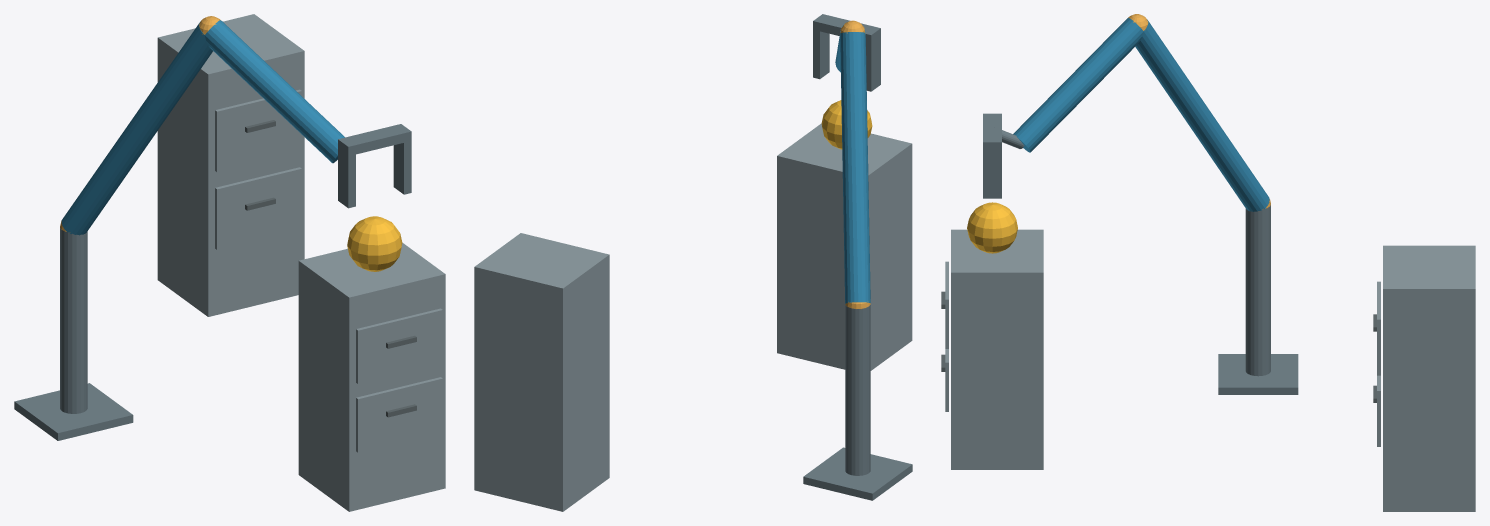
The picture shows the model from 3 angles, left to right: view 1: azimuth 30°, elevation 25°; view 2: azimuth 150°, elevation 25°; view 3: azimuth 270°, elevation 25°; orthographic projection. The views are drawn at different scales.
Visible parts, largest first — view 1: cabinet_1 body, cabinet_2 body, moving link 1, cabinet_2 drawer front, fixed post, moving link 2, cabinet_1 drawer front, cabinet_1 drawer front.001, cabinet_2 drawer front.001, pedestal, ball ball_1, gripper bridge (+2 smaller); view 2: cabinet_2 body, cabinet_1 body, moving link 1, fixed post, pedestal, ball ball_1, gripper bridge, gripper finger 1, gripper finger -1; view 3: cabinet_2 body, cabinet_1 body, moving link 1, fixed post, moving link 2, pedestal, ball ball_1, gripper finger 1, gripper bridge.
Part boxes in pixels (bbox=[...]): cabinet_1 body: bbox=[298, 242, 445, 511]; cabinet_2 body: bbox=[157, 14, 304, 316]; moving link 1: bbox=[61, 21, 212, 235]; cabinet_2 drawer front: bbox=[215, 167, 301, 249]; fixed post: bbox=[60, 226, 87, 413]; moving link 2: bbox=[204, 20, 344, 163]; cabinet_1 drawer front: bbox=[356, 377, 442, 452]; cabinet_1 drawer front.001: bbox=[356, 308, 442, 383]; cabinet_2 drawer front.001: bbox=[215, 89, 301, 172]; pedestal: bbox=[14, 383, 133, 440]; ball ball_1: bbox=[347, 216, 402, 271]; gripper bridge: bbox=[338, 124, 411, 156]; cabinet_2 body: bbox=[474, 233, 609, 511]; cabinet_1 body: bbox=[777, 123, 912, 370]; moving link 1: bbox=[840, 32, 870, 303]; fixed post: bbox=[845, 305, 870, 475]; pedestal: bbox=[803, 447, 912, 500]; ball ball_1: bbox=[821, 100, 872, 149]; gripper bridge: bbox=[813, 14, 880, 43]; gripper finger 1: bbox=[813, 30, 829, 79]; gripper finger -1: bbox=[866, 37, 880, 91]; cabinet_2 body: bbox=[1383, 245, 1475, 511]; cabinet_1 body: bbox=[951, 229, 1043, 469]; moving link 1: bbox=[1135, 19, 1269, 211]; fixed post: bbox=[1245, 205, 1270, 376]; moving link 2: bbox=[1013, 17, 1143, 152]; pedestal: bbox=[1218, 354, 1298, 394]; ball ball_1: bbox=[967, 202, 1017, 253]; gripper finger 1: bbox=[983, 151, 1001, 198]; gripper bridge: bbox=[983, 113, 1001, 150].
Bounding box in the file's own units: 1.12 × 1.36 × 1.67.
